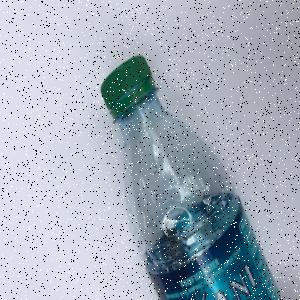Plastic-bottle: (100, 56, 284, 300)
